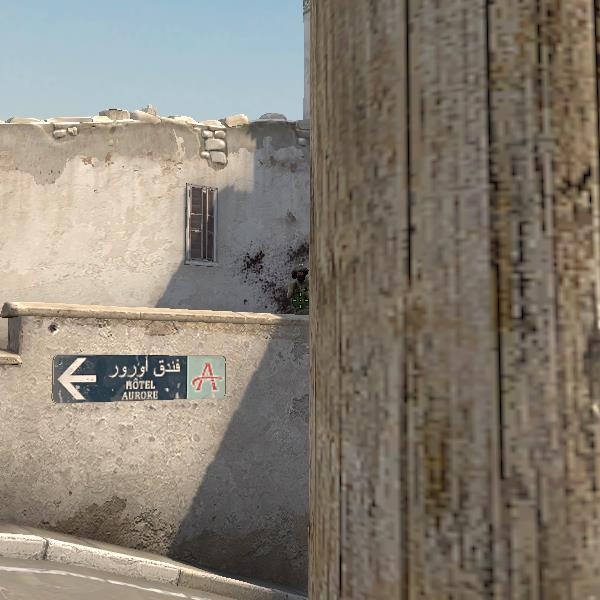ct_body: (272, 267, 313, 313)
ct_head: (290, 267, 310, 286)
